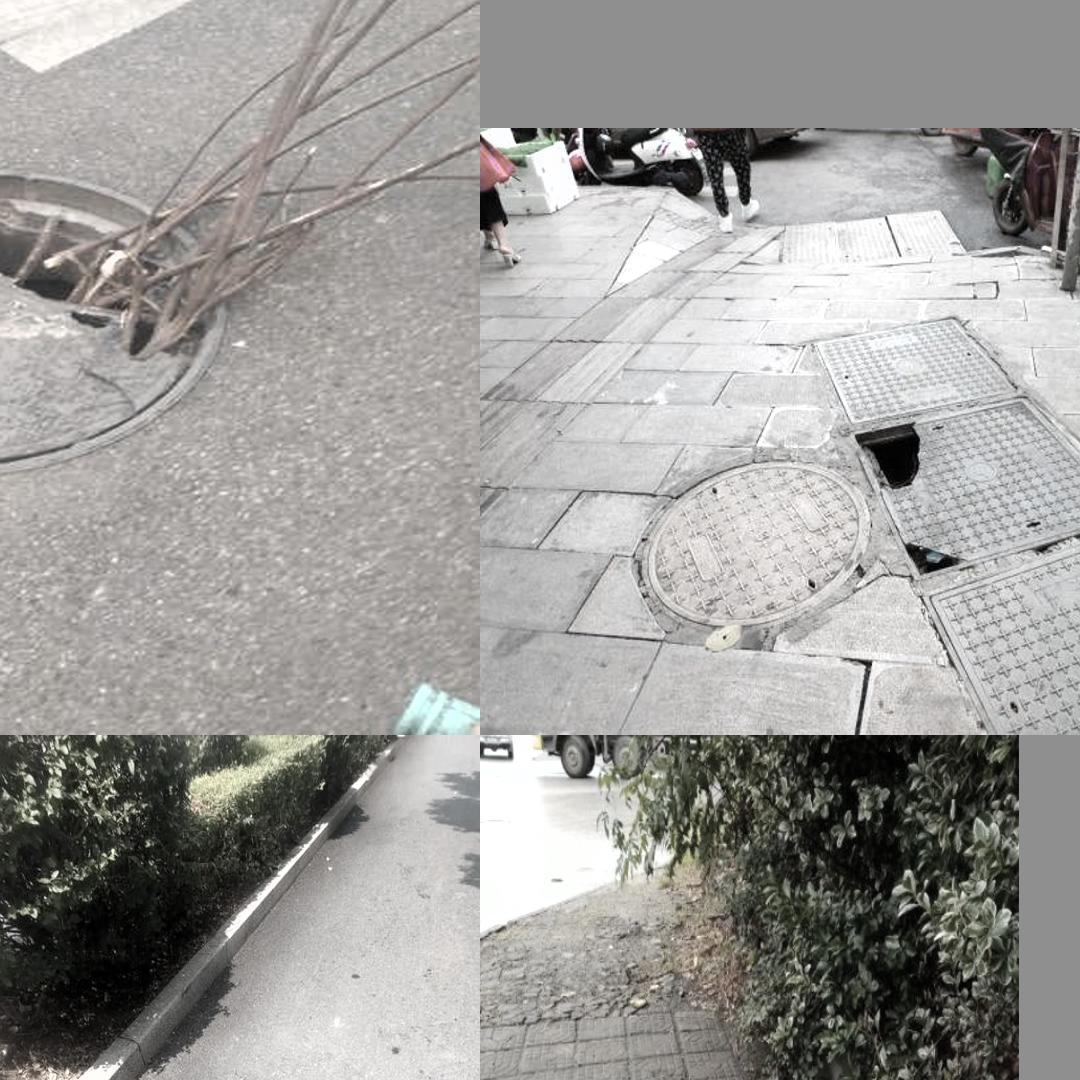broke: (0, 142, 262, 479), (848, 408, 1080, 581)
